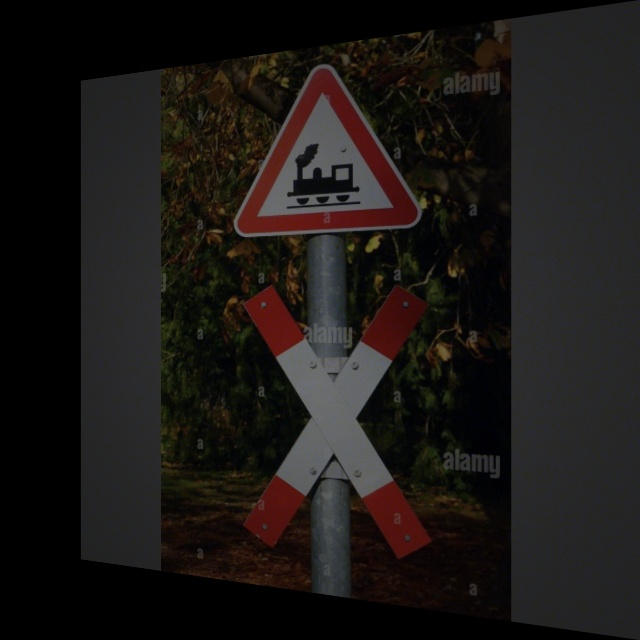Unguarded_Level_Crossing: (249, 73, 420, 237)
